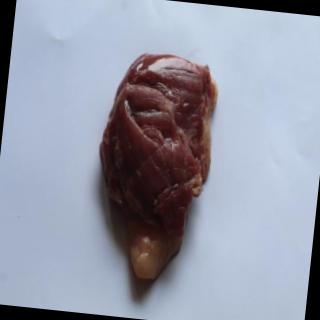Daging Sapi: (92, 49, 221, 290)
